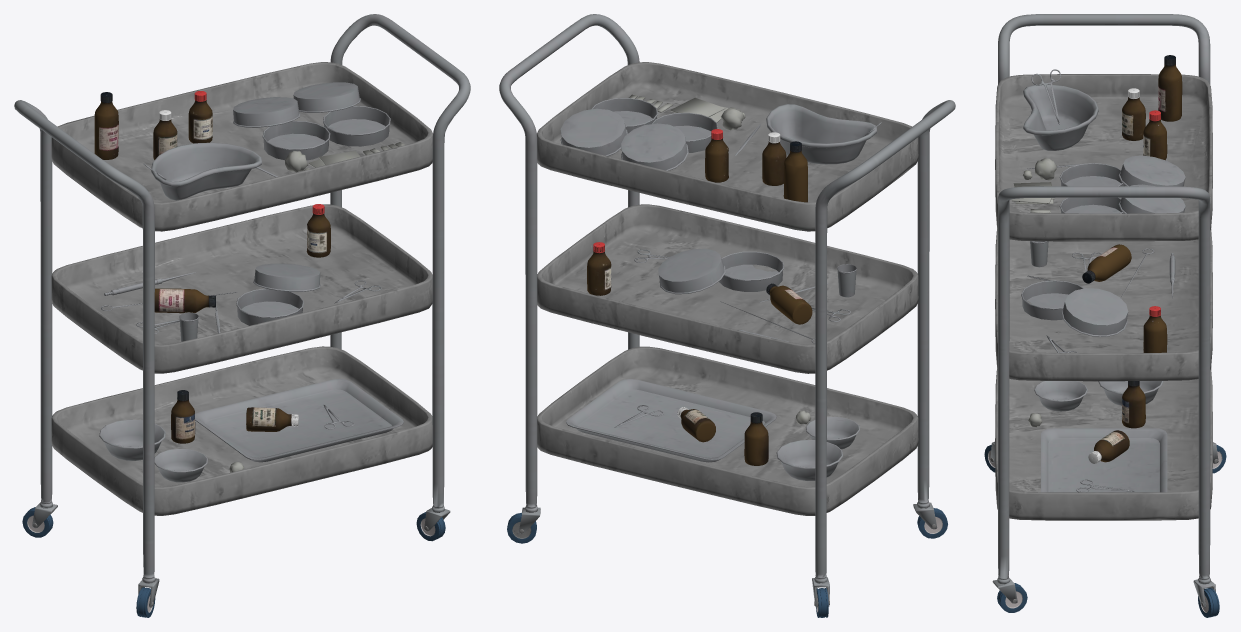
Rendered from props-medicos.glb.
3 views of the same model, side by side, from view 1: azimuth 30°, elevation 25°; view 2: azimuth 150°, elevation 25°; view 3: azimuth 270°, elevation 25° (orthographic).
Parts seen in each view (by area): view 1: Circle.007, prop; view 2: Circle.007, prop; view 3: Circle.007, prop.
Part boxes in pixels (bbox=[...]): Circle.007: bbox=[14, 14, 470, 617]; prop: bbox=[94, 82, 404, 482]; Circle.007: bbox=[499, 14, 955, 617]; prop: bbox=[560, 94, 881, 481]; Circle.007: bbox=[984, 14, 1226, 617]; prop: bbox=[1012, 55, 1185, 492].
Size of the model in its own units: 2.09 by 2.43 by 1.2.
Materials: 2 (2 with a texture image).
